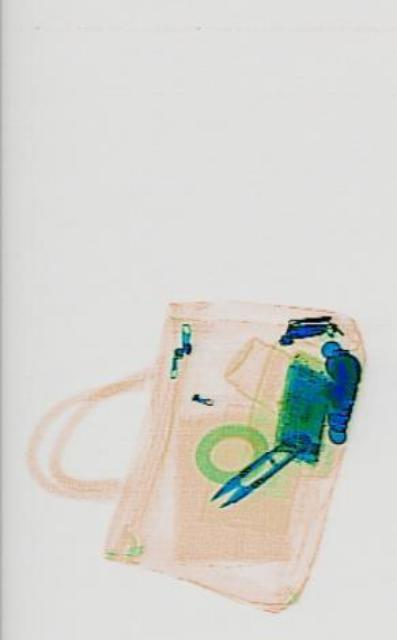Scissors: (204, 418, 310, 518)
